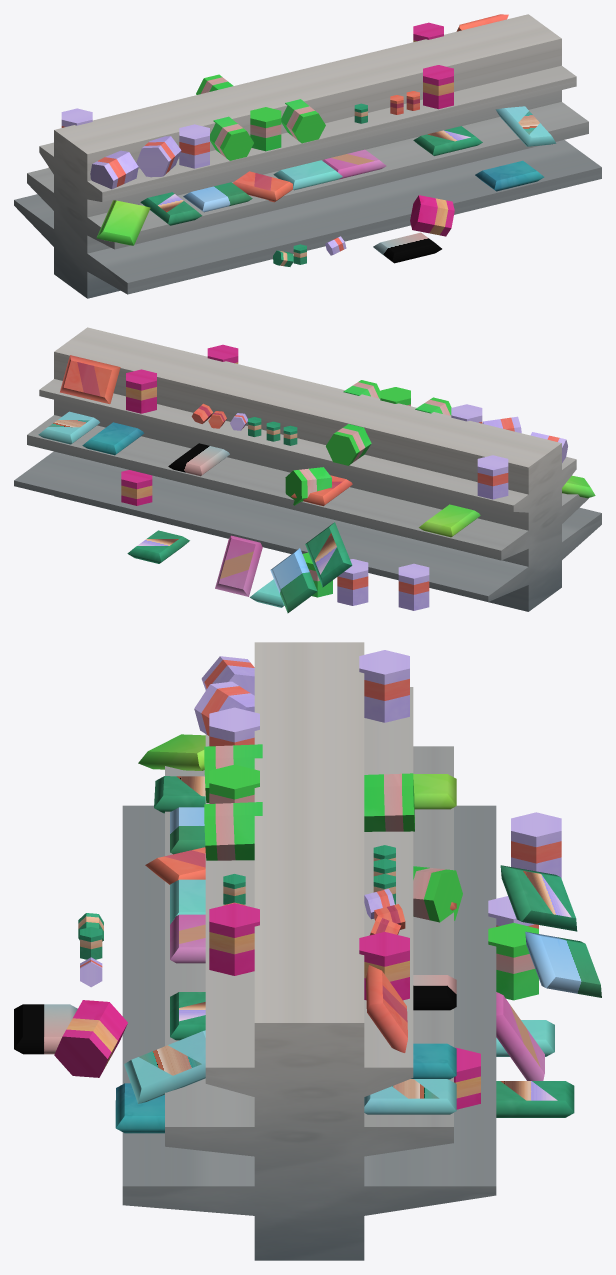
File: counter_Messy.fbx
3 renders of one model, top to bottom at view 1: azimuth 30°, elevation 25°; view 2: azimuth 150°, elevation 25°; view 3: azimuth 270°, elevation 25°, orthographic. The views are drawn at different scales.
Parts seen in each view (by area): view 1: pCube60; view 2: pCube60; view 3: pCube60.
Boxes of the visible parts, <box> form: pCube60: <box>14,14,601,298</box>; pCube60: <box>14,327,601,613</box>; pCube60: <box>14,642,601,1260</box>.
Size of the model in its own units: 2195 by 643 by 1397.
